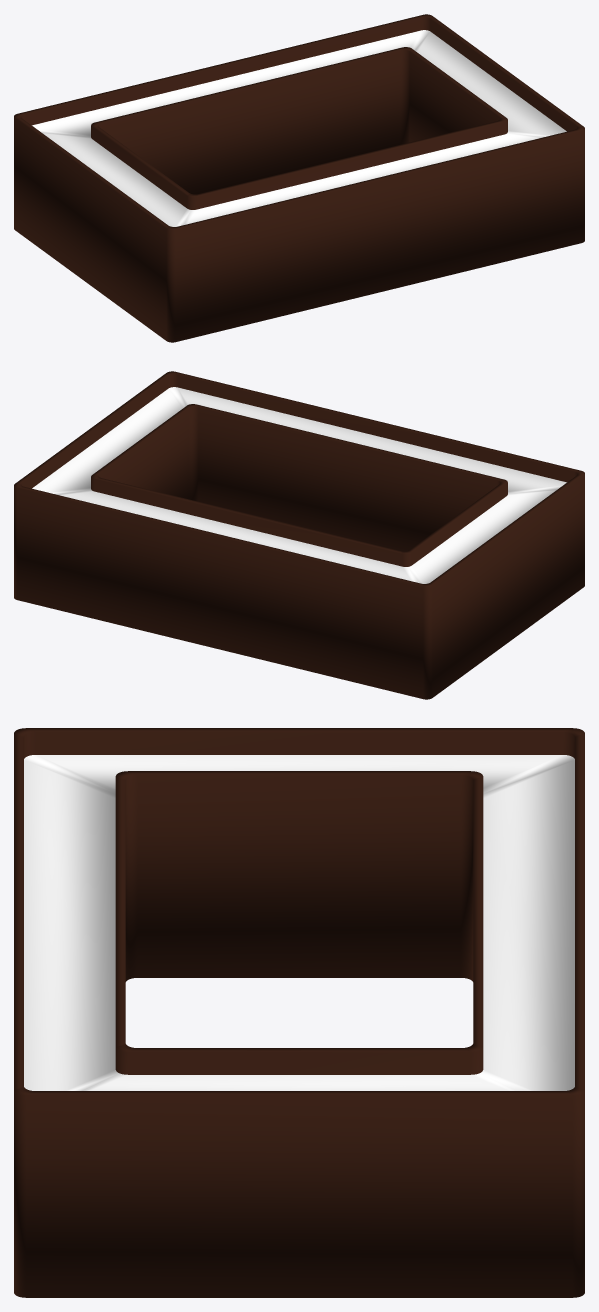
The model's file is Robot_Track.dae.
3 renders of one model, top to bottom at view 1: azimuth 30°, elevation 25°; view 2: azimuth 150°, elevation 25°; view 3: azimuth 270°, elevation 25°, orthographic. The views are drawn at different scales.
Size of the model in its own units: 3.5 by 2.3 by 0.9.
